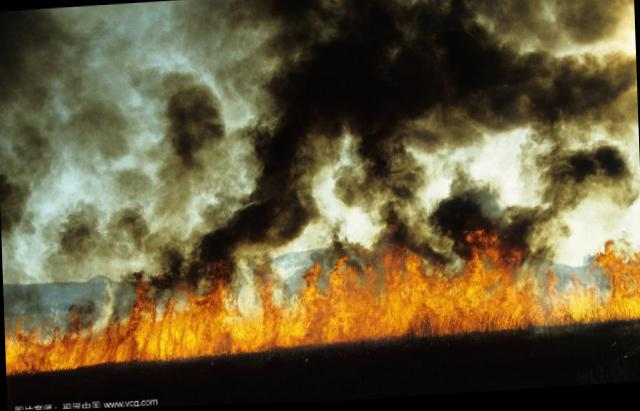fire: (154, 304, 409, 353), (548, 286, 639, 328), (428, 275, 488, 337), (39, 333, 134, 367), (492, 289, 546, 335), (328, 259, 374, 306), (381, 243, 411, 304), (180, 282, 229, 317), (463, 233, 500, 279), (131, 285, 153, 360), (600, 248, 639, 290), (5, 325, 40, 371), (408, 255, 426, 337), (300, 262, 320, 309), (256, 277, 274, 311)
